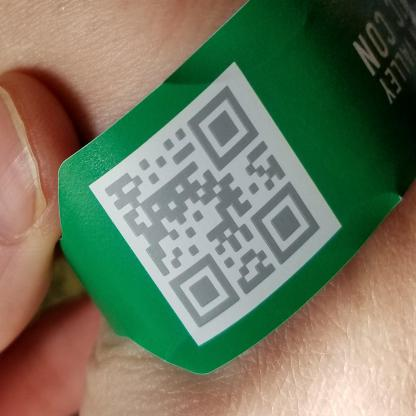qr: (97, 79, 325, 325)
